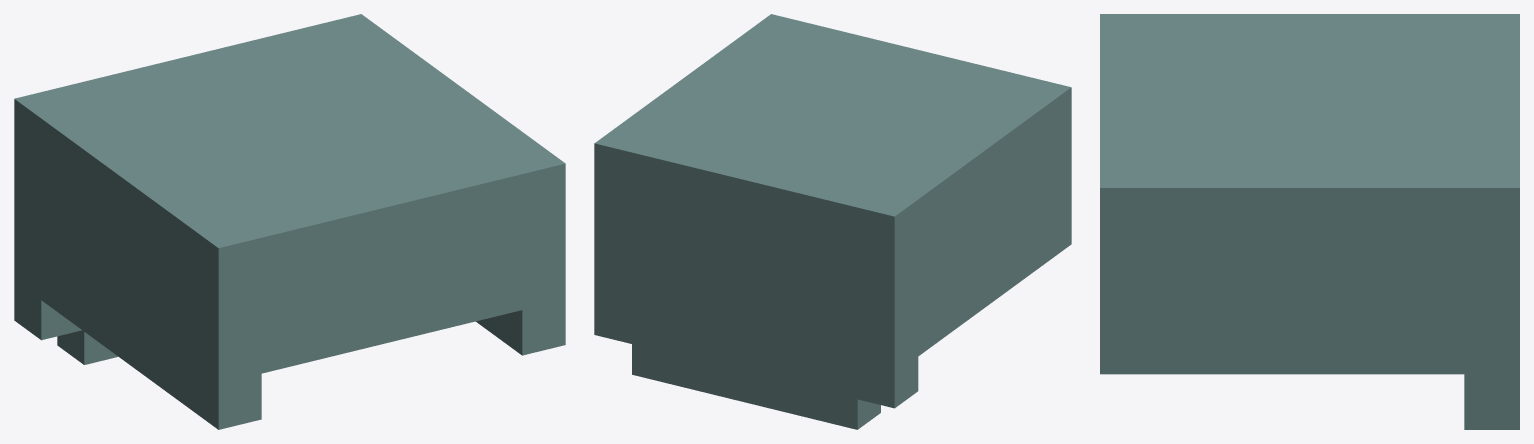
File: helmet.fbx
3 renders of one model, left to right at view 1: azimuth 30°, elevation 25°; view 2: azimuth 150°, elevation 25°; view 3: azimuth 270°, elevation 25°, orthographic. The views are drawn at different scales.
Visible parts, largest first — view 1: pCube1; view 2: pCube1; view 3: pCube1.
Boxes of the visible parts, <box> form: pCube1: <box>14,14,565,429</box>; pCube1: <box>594,14,1071,429</box>; pCube1: <box>1100,14,1519,429</box>.
Bounding box in the file's own units: 7.96 × 5.63 × 8.11.
